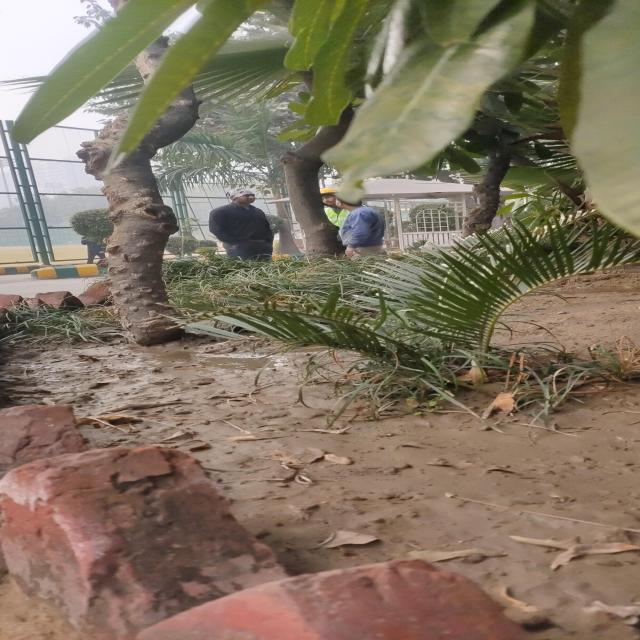unsafe: (207, 188, 278, 262), (335, 198, 387, 258)
